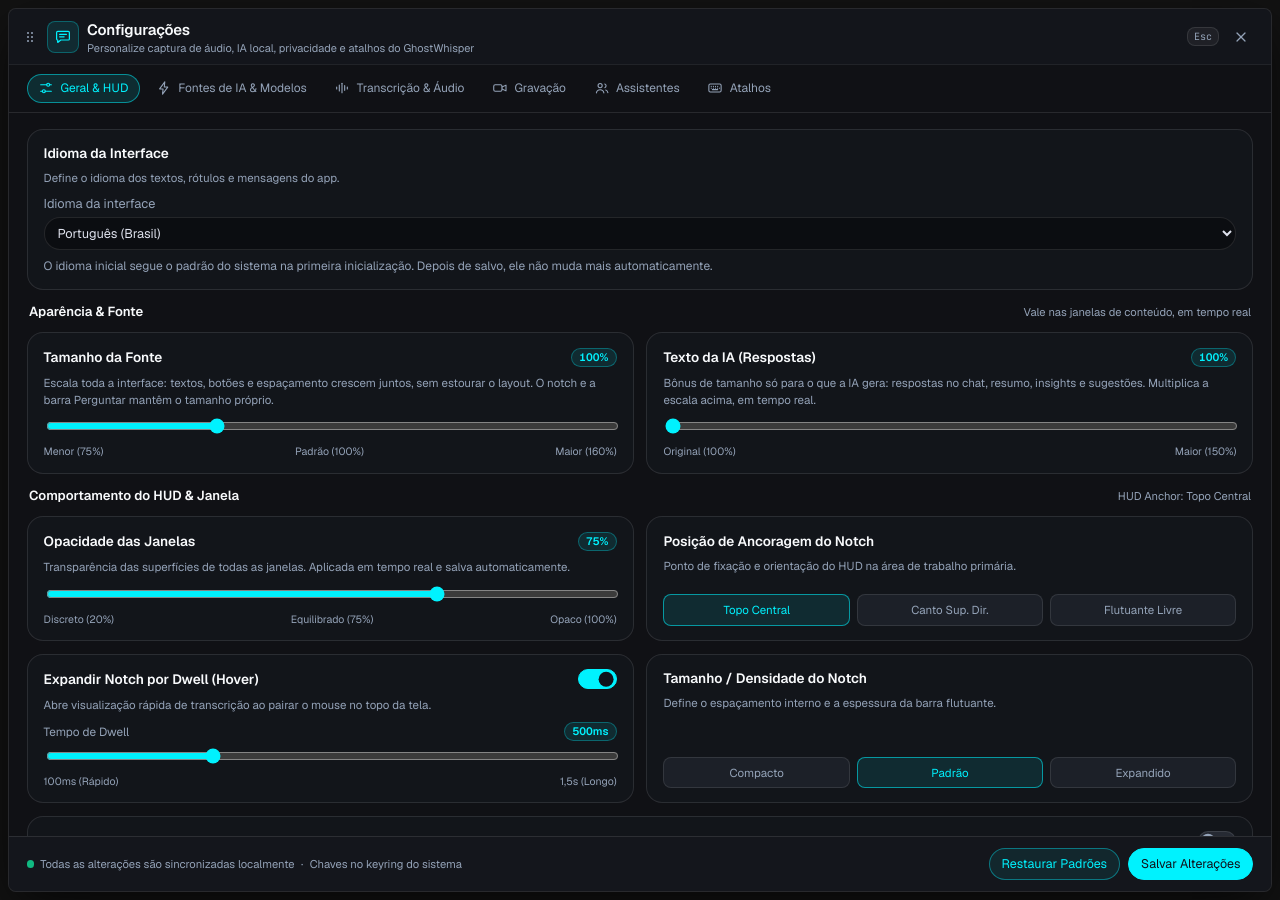
Scenario: SettingsPage › troca para a aba de transcrição e mostra o modelo whisper
Step 1. Click the tab "Transcrição & Áudio" → x=399, y=88, box left=323, top=74, right=476, bottom=103
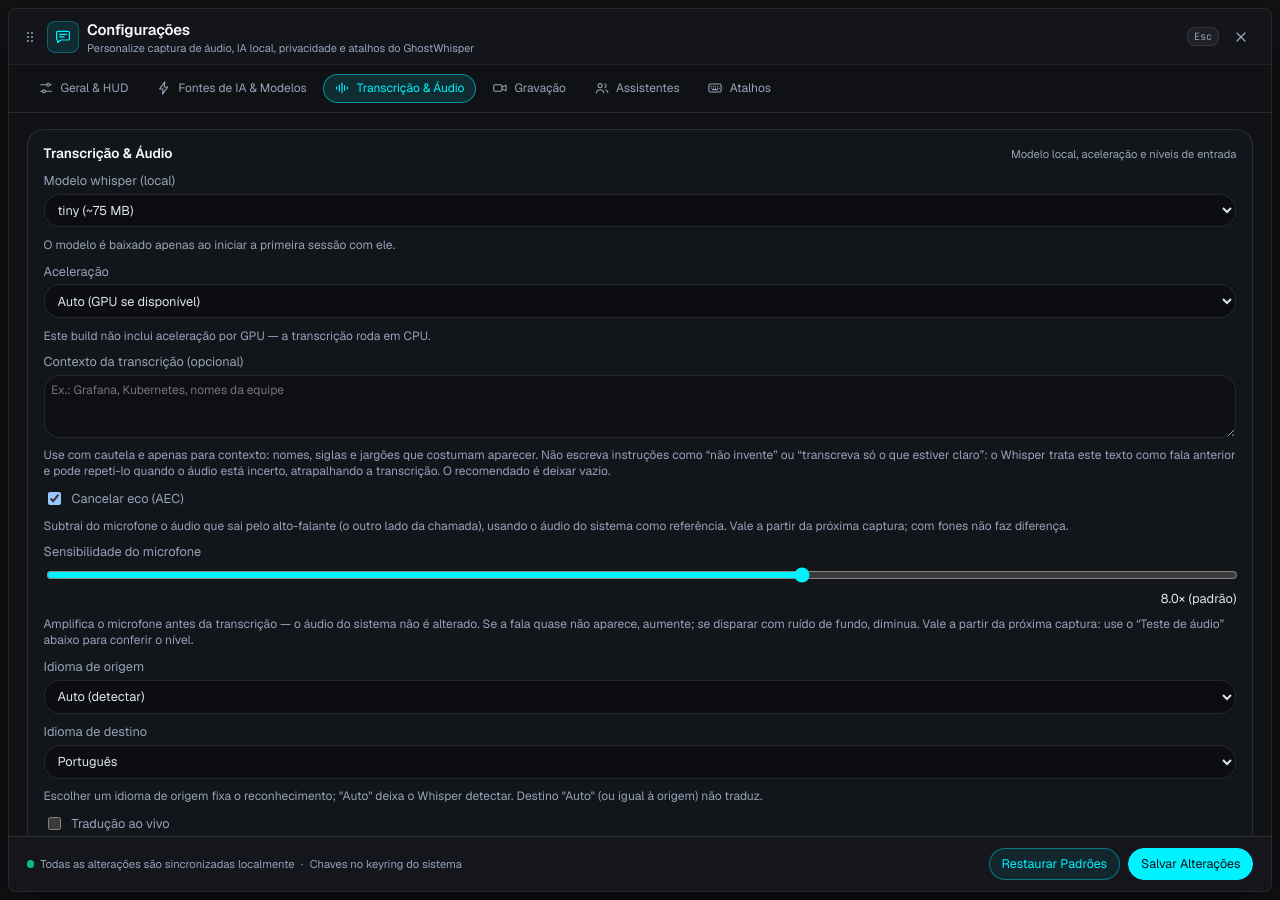
Check: the text "Modelo whisper (local)" is shown, box left=44, top=172, right=175, bottom=189
Check: the dropdown labelled "Aceleração" shows "Auto (GPU se disponível)", box left=44, top=284, right=1236, bottom=318
